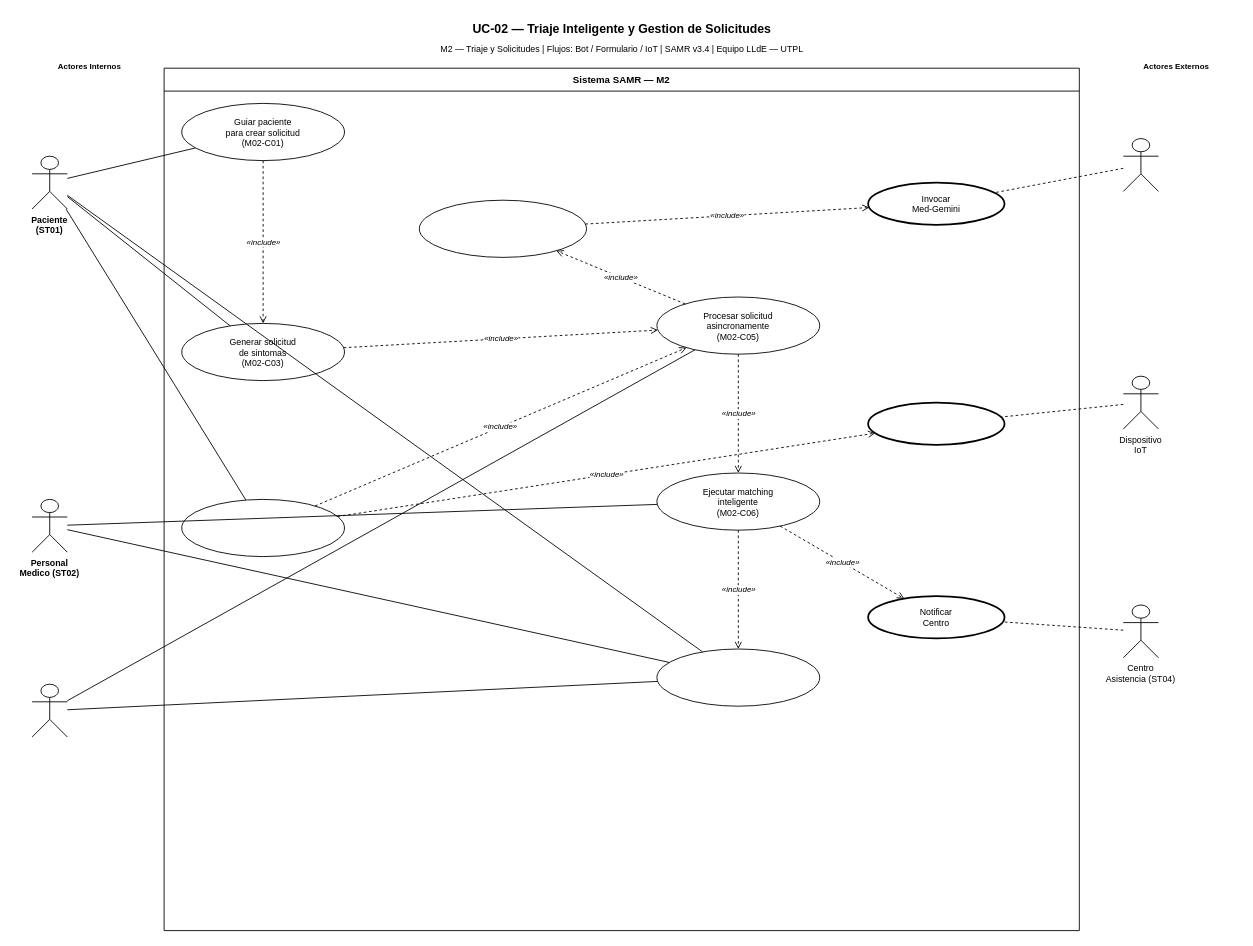
This 1253x946 diagram has some shape labels left out. Each missing label, with the centre of its shape:
"Alerta emergencia con datos IoT (M02-C04)" goes at pixel 263 528.
"Capturar lecturas IoT" goes at pixel 936 423.
"Med-Gemini (Sistema)" goes at pixel 1140 164.
"Med-Gemini — Motor triaje clinico (M02-C02)" goes at pixel 502 228.
"Personal Administ. (ST03)" goes at pixel 49 710.
"Visualizar estado en panel dinamico (M02-C07)" goes at pixel 738 677.
